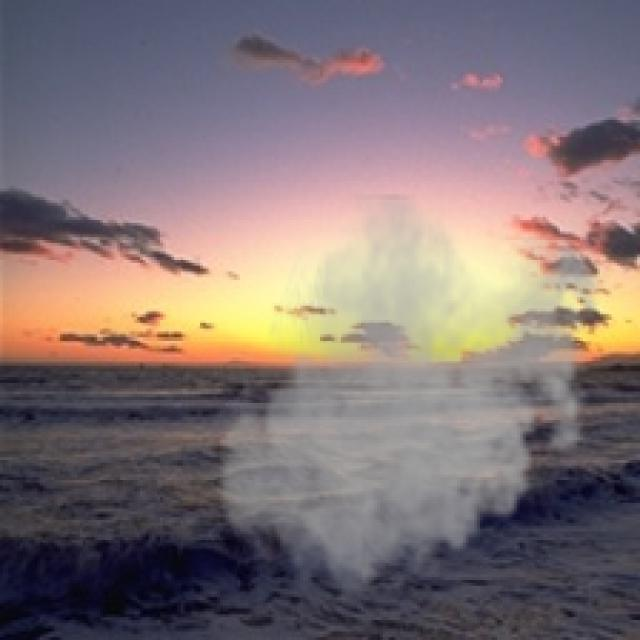Smoke: (208, 194, 612, 609)
